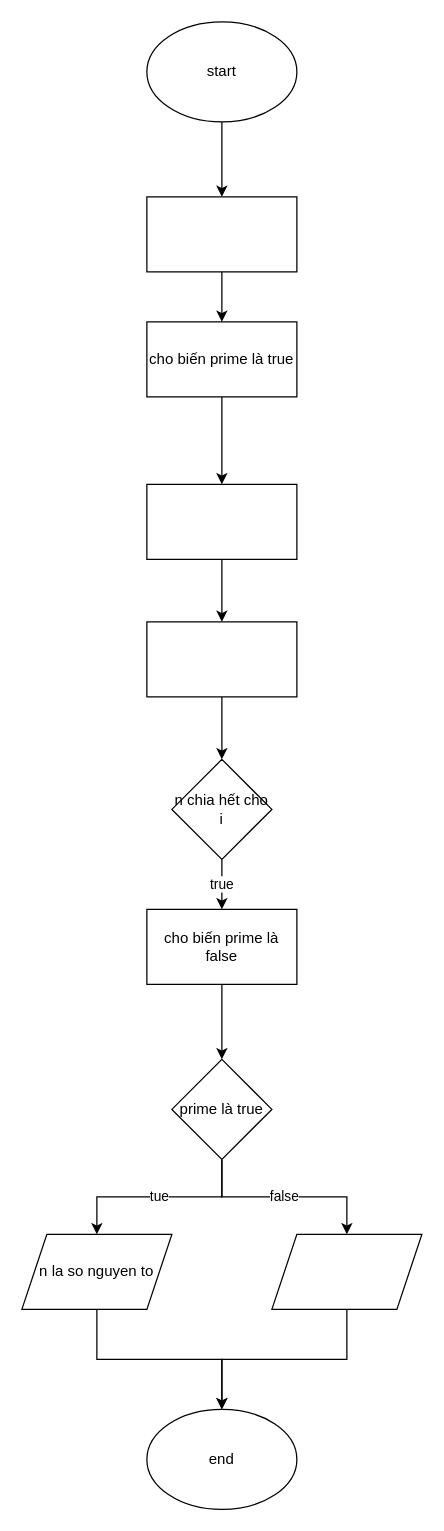
Image size: 444x1531. Some labels were removed from this diagram. The shapes that lost their labels are listed below. From the top down, each one's centre as x and y in pixels, then its label:
(221,234): nhập vào số nguyên n
(221,521): cho i=2, i bé hơn căng bậc 2 của n, i tăng 1 đơn vị
(221,659): lặp từ 2 đến căng bậc 2 của n
(346,1271): n khong la so nguyen to
